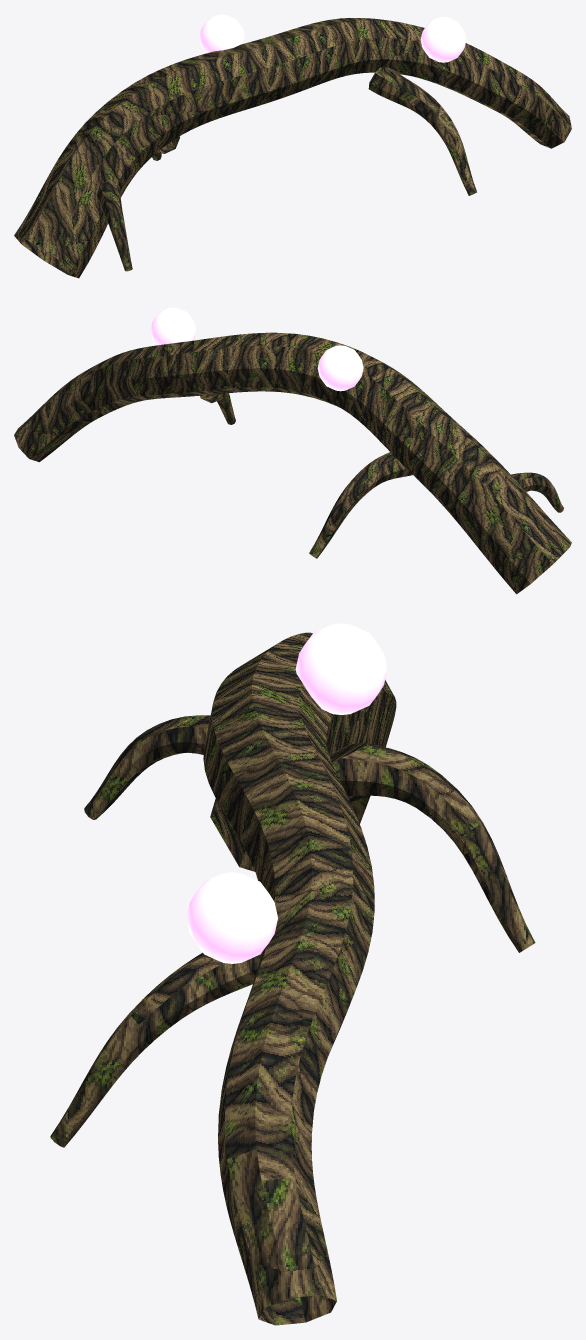
File: sanct_root.glb
3 views of the same model, one above another, from view 1: azimuth 30°, elevation 25°; view 2: azimuth 150°, elevation 25°; view 3: azimuth 270°, elevation 25° (orthographic). The views are drawn at different scales.
Parts seen in each view (by area): view 1: Root, Pod1, Pod0; view 2: Root, Pod0, Pod1; view 3: Root, Pod1, Pod0.
Boxes of the visible parts, x1=… form: Root: x1=14, y1=18, x2=571, y2=278; Pod1: x1=420, y1=17, x2=466, y2=62; Pod0: x1=199, y1=14, x2=244, y2=53; Root: x1=14, y1=332, x2=571, y2=594; Pod0: x1=317, y1=345, x2=363, y2=391; Pod1: x1=150, y1=307, x2=196, y2=345; Root: x1=50, y1=632, x2=535, y2=1325; Pod1: x1=186, y1=872, x2=277, y2=963; Pod0: x1=295, y1=623, x2=387, y2=714.
Size of the model in its own units: 11.56 by 4.23 by 4.44.
Materials: 2 (1 with a texture image).
